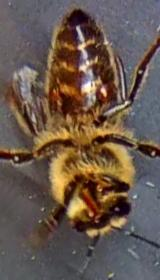varroa_mite: (90, 70, 120, 112), (43, 80, 65, 116)
